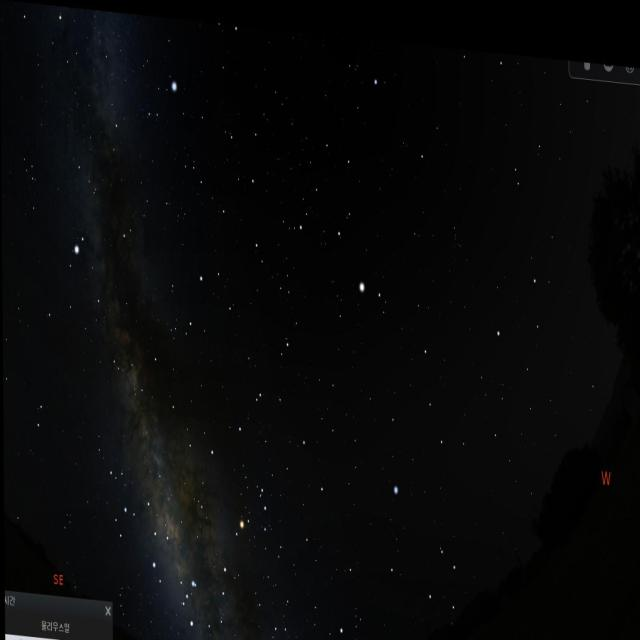aquila: (54, 200, 137, 375)
bootes: (307, 123, 399, 320)
leo: (482, 231, 640, 378)
lyra: (138, 61, 184, 129)
sagittarius: (94, 460, 179, 586)
scorpius: (178, 472, 275, 639)
